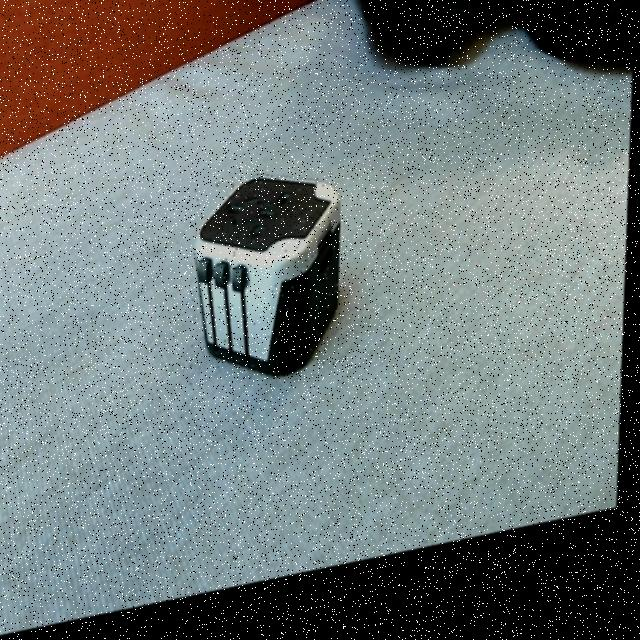adapter: (190, 171, 346, 404)
